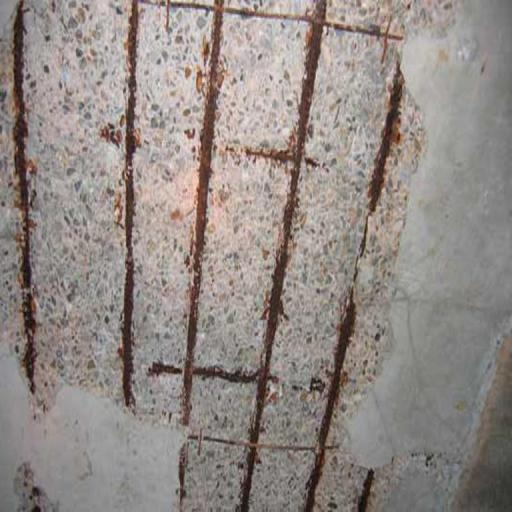spalling: (0, 0, 458, 512), (11, 460, 58, 512)
